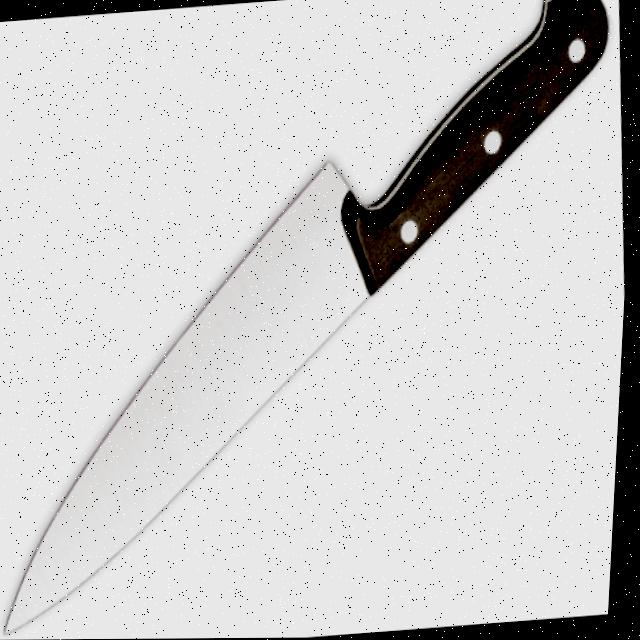knife: (0, 0, 640, 637)
